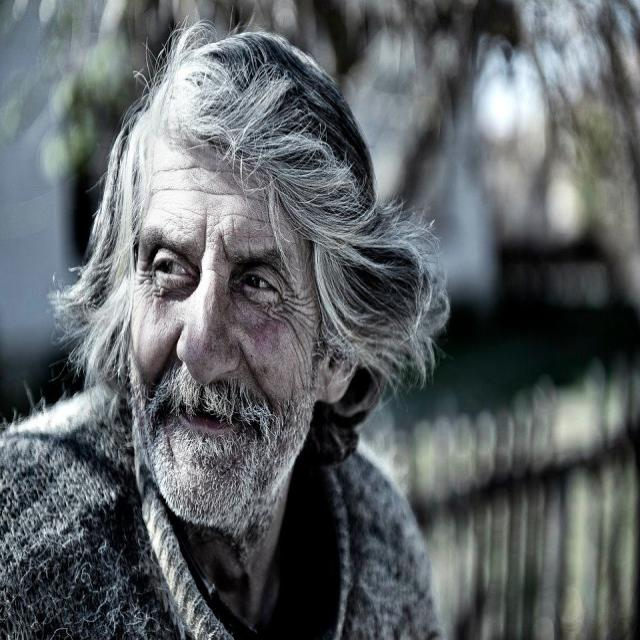front: (127, 194, 290, 493)
